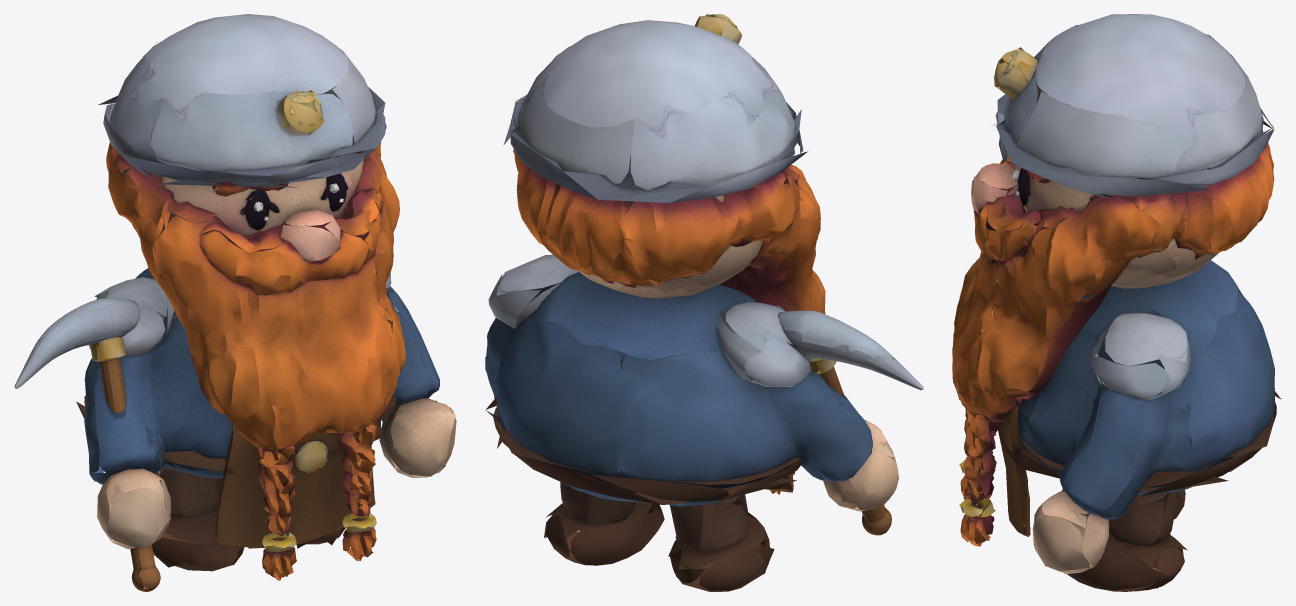
The model's file is dwarf.glb.
3 renders of one model, left to right at view 1: azimuth 30°, elevation 25°; view 2: azimuth 150°, elevation 25°; view 3: azimuth 270°, elevation 25°, orthographic. The views are drawn at different scales.
Visible parts, largest first — view 1: dwarf, dwarf_prop; view 2: dwarf, dwarf_prop; view 3: dwarf.
Boxes of the visible parts, x1,y1,x2,y2 form: dwarf: (76, 14, 456, 580); dwarf_prop: (14, 298, 167, 591); dwarf: (485, 14, 898, 591); dwarf_prop: (778, 310, 923, 535); dwarf: (952, 14, 1281, 591).
Size of the model in its own units: 0.9352 by 1.11 by 0.6232.
1 material, 1 textured.
